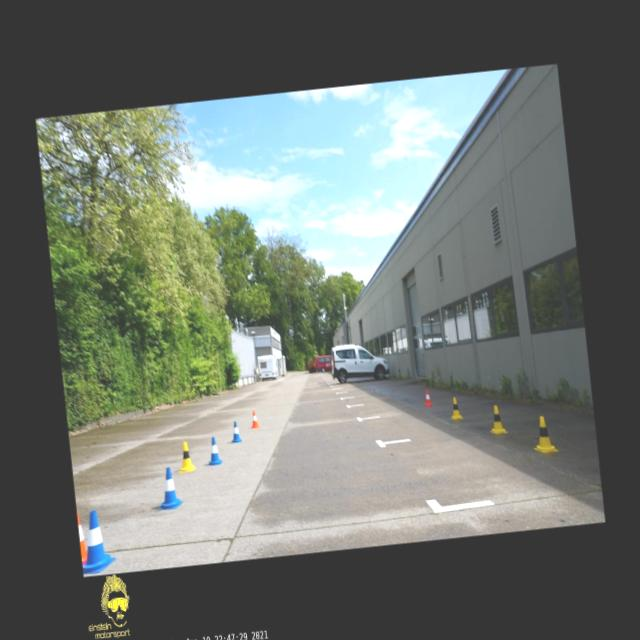blue_cone: (77, 508, 117, 574), (154, 466, 182, 510), (206, 436, 222, 465), (229, 420, 242, 442)
orange_cone: (76, 511, 89, 564), (250, 409, 260, 428), (422, 388, 432, 407)
yellow_cone: (530, 414, 558, 453), (176, 440, 196, 472), (487, 404, 507, 434), (448, 396, 463, 420)
